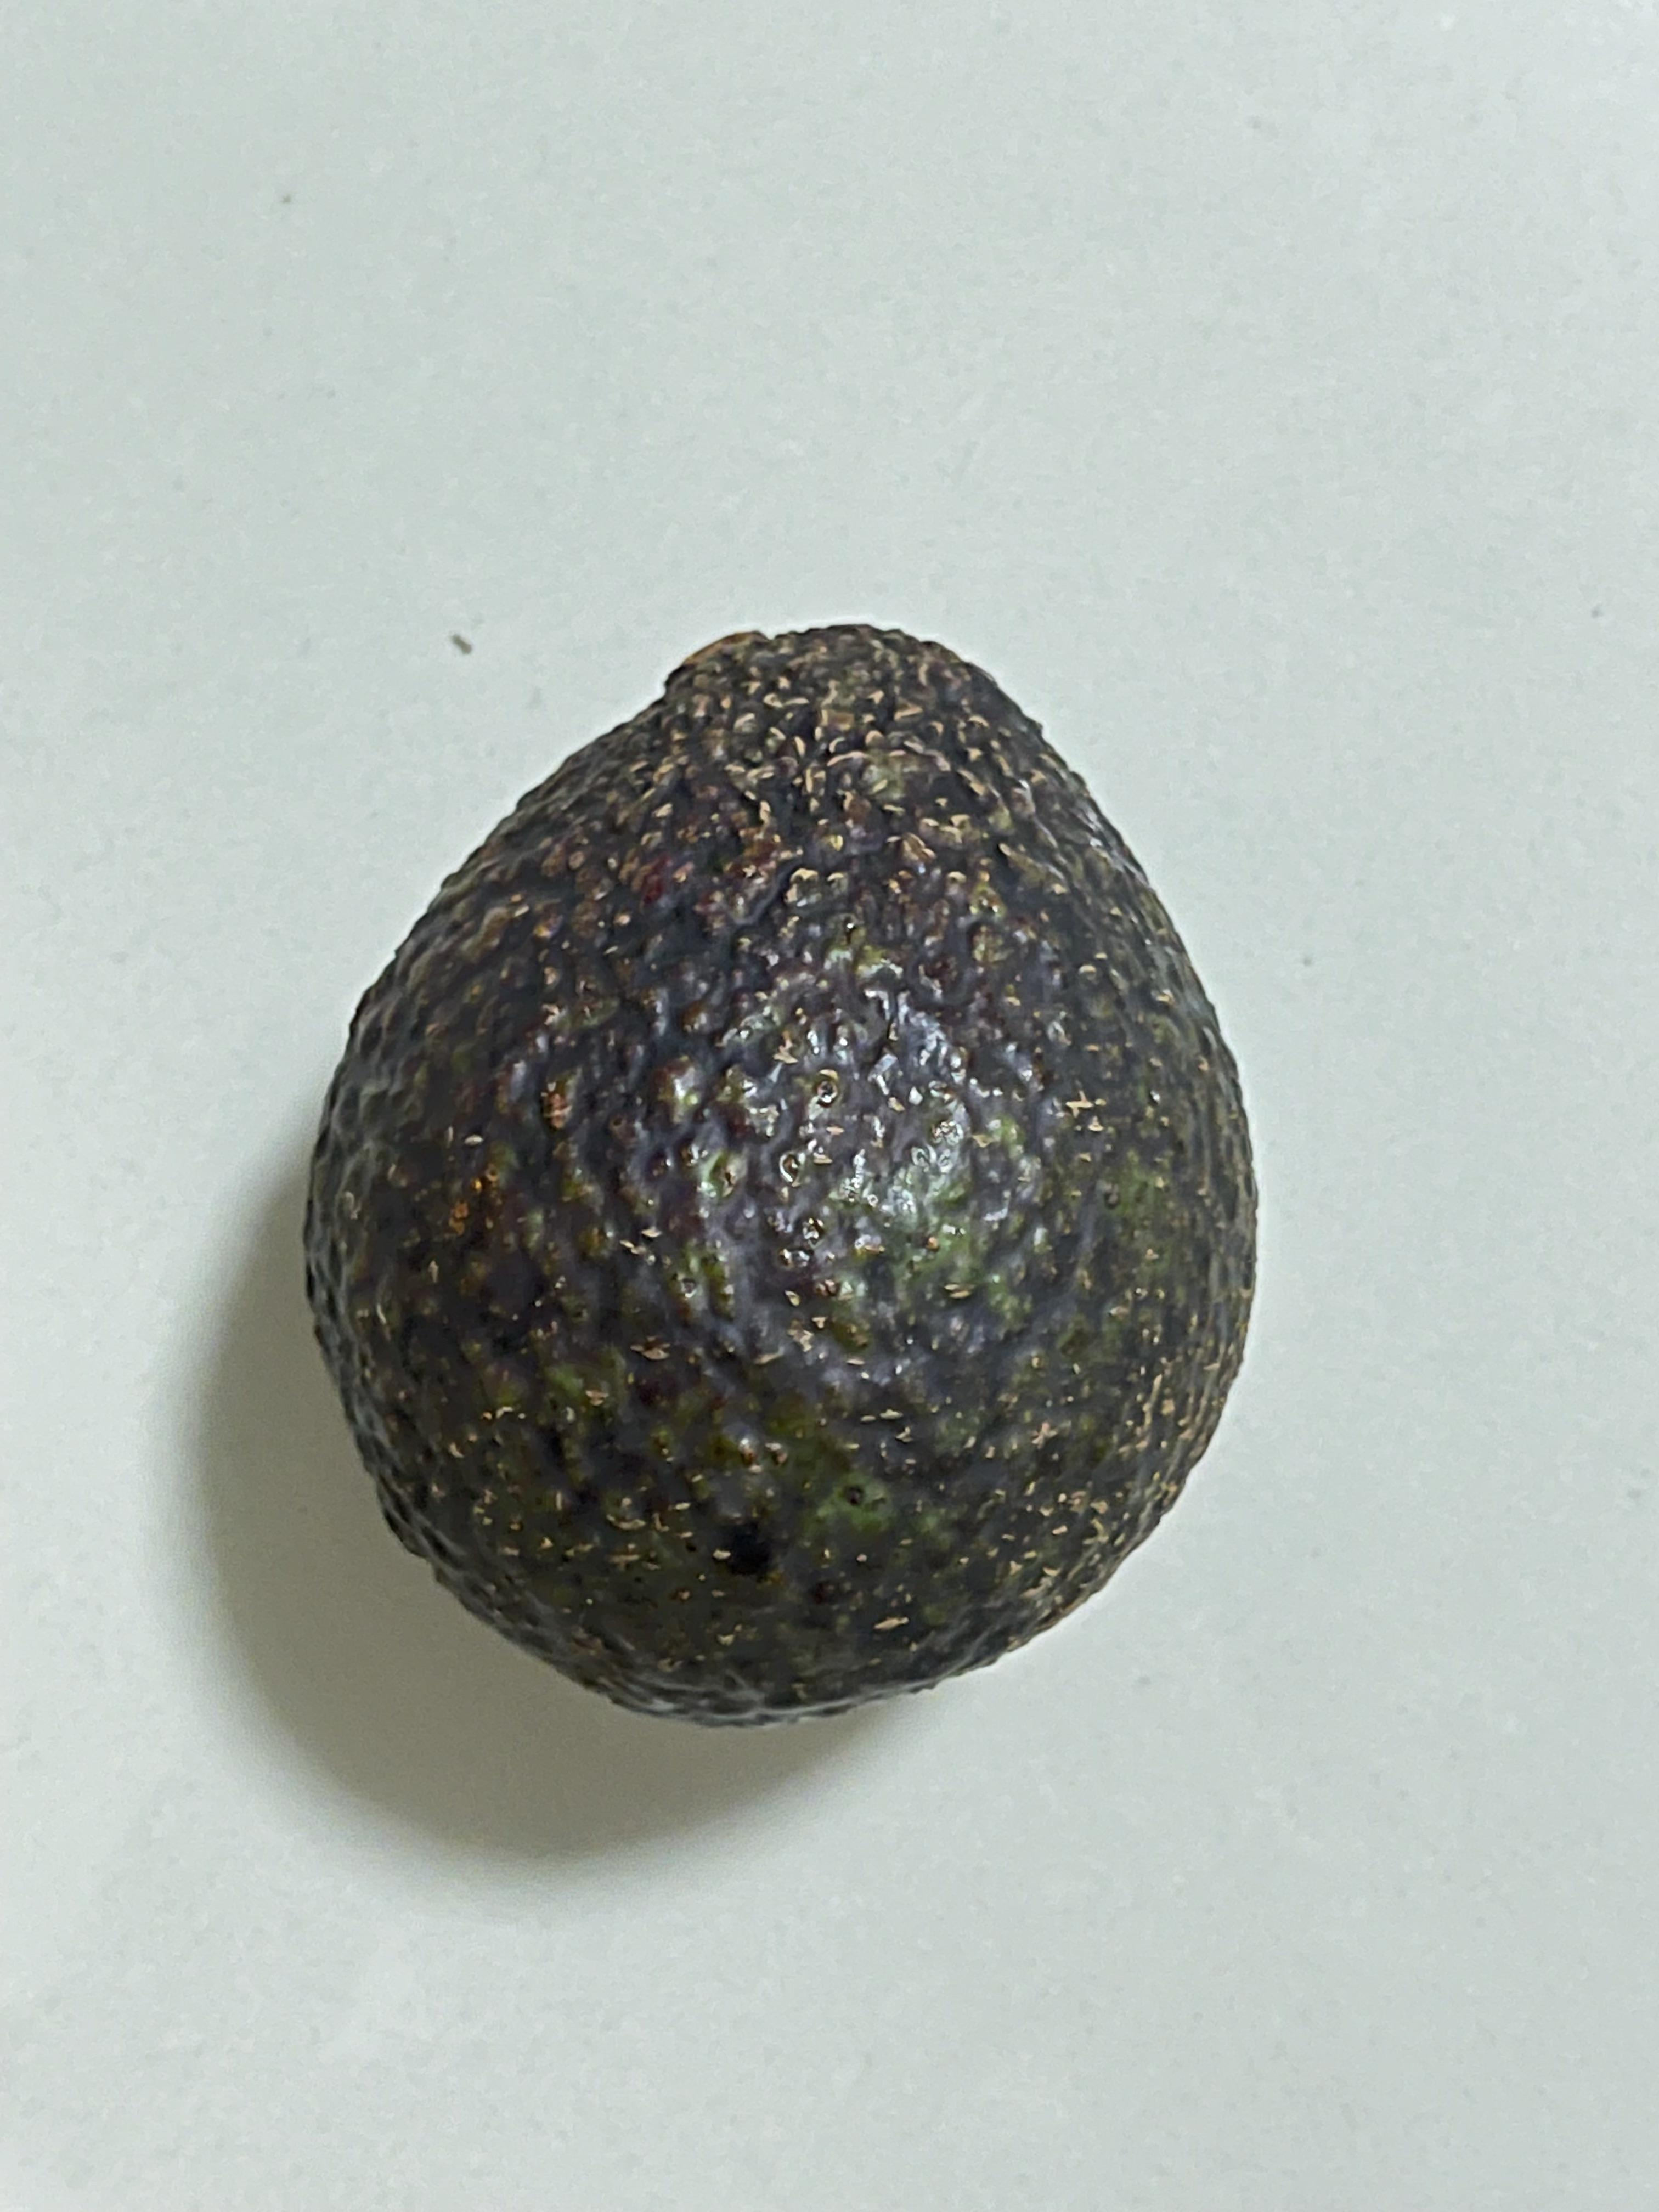Level2: (281, 592, 1269, 1747)
